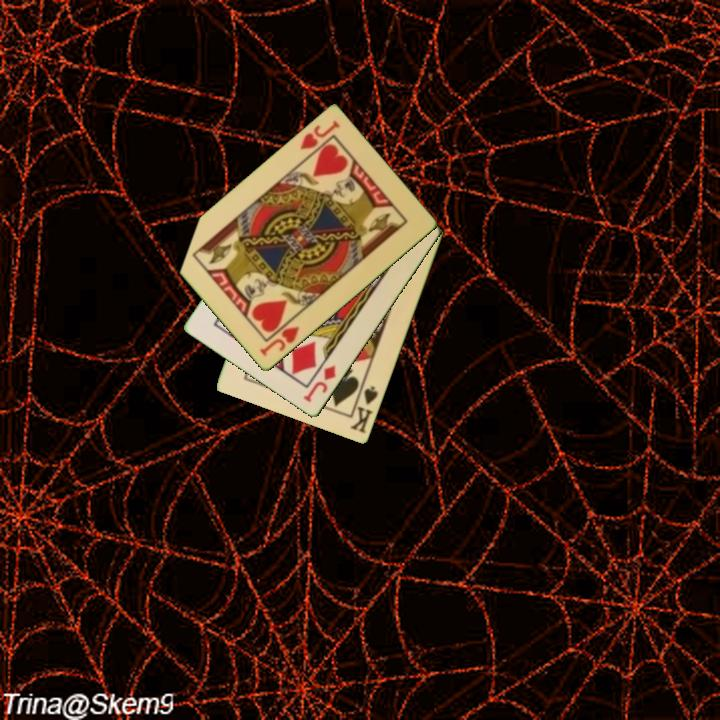Jd: (300, 362, 339, 406)
Jh: (256, 314, 303, 360), (296, 117, 343, 153)
Ks: (347, 379, 381, 437)
